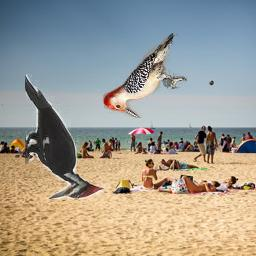Woodpecker: (25, 75, 105, 200), (101, 34, 187, 119)
